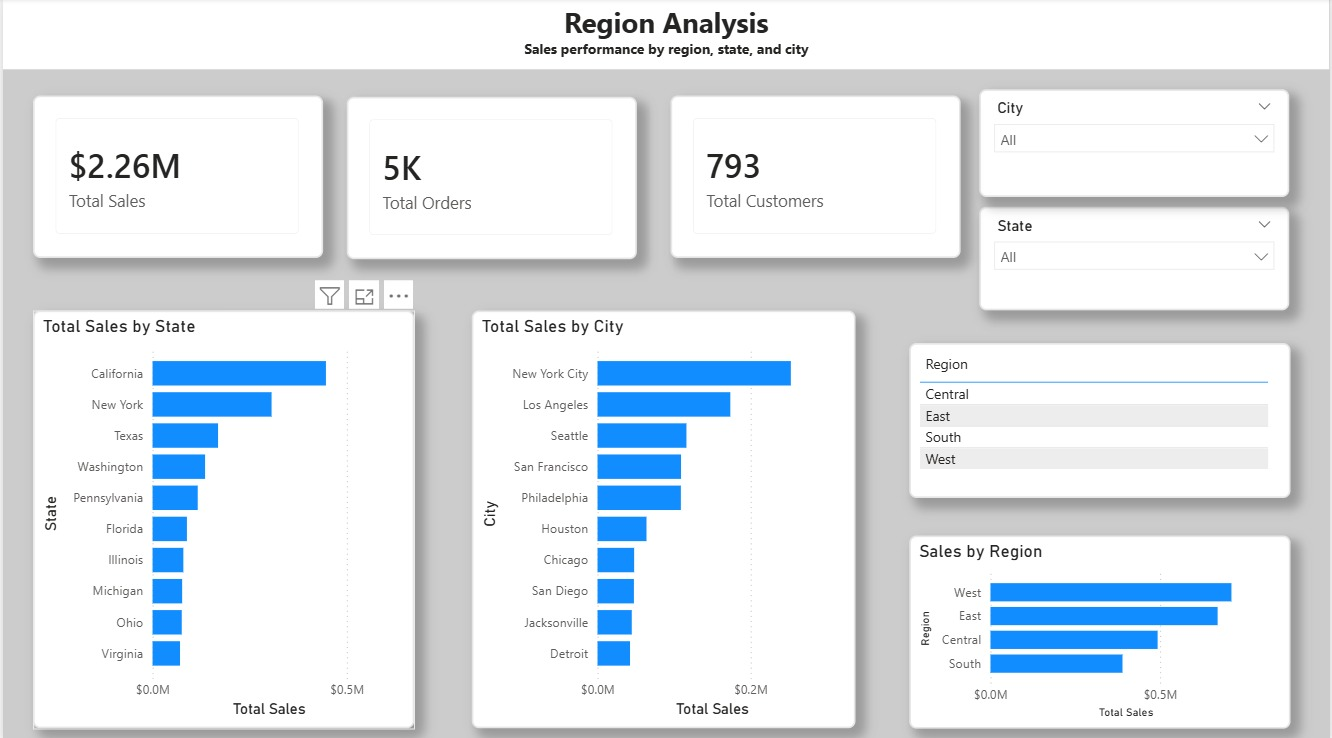

The page's visual inventory and layout, read from the dashboard file:
{"tool":"powerbi","page":{"name":"Region Analysis","canvas":[1280,720],"ordinal":2},"visuals":[{"type":"textbox","box":[0,0,1280.3,68.6],"z":0},{"type":"cardVisual","fields":{"Data":["Orders.Total Sales"]},"box":[28.8,94.7,279.9,156.4],"z":1000,"group":"g1"},{"type":"clusteredBarChart","title":"Sales by Region","fields":{"Category":["Orders.Region"],"Y":["Orders.Total Sales"]},"box":[874.1,518.7,367.8,186.6],"z":1000},{"type":"cardVisual","fields":{"Data":["Orders.Total Orders"]},"box":[332.1,96.1,279.9,156.4],"z":2000,"group":"g1"},{"type":"clusteredBarChart","fields":{"Category":["Orders.City"],"Y":["Orders.Total Sales"]},"box":[452.8,301.9,370.5,403.4],"z":2000},{"type":"cardVisual","fields":{"Data":["Orders.Total Customers"]},"box":[643.6,94.7,279.9,156.4],"z":3000,"group":"g1"},{"type":"tableEx","fields":{"Values":["Orders.Region"]},"box":[874.1,333.4,367.8,149.6],"z":3000},{"type":"slicer","fields":{"Values":["Orders.State"]},"box":[942.7,201.7,299.1,100.2],"z":4000},{"type":"slicer","fields":{"Values":["Orders.City"]},"box":[942.7,87.8,299.1,104.3],"z":5000},{"type":"clusteredBarChart","fields":{"Y":["Orders.Total Sales"],"Category":["Orders.State"]},"box":[28.8,301.9,367.8,403.4],"z":6000},{"type":"group","id":"g1","title":"Group 1","box":[28.8,94.7,894.7,157.8],"z":7000}]}

Visuals, with their boxes in screenshot pixels (x1, y1, x2, y2), scaled from the page's 1280x720 canvas onto the 1332x738 screenshot:
textbox: (x1=0, y1=0, x2=1331, y2=70)
cardVisual - Orders.Total Sales: (x1=30, y1=97, x2=321, y2=257)
"Sales by Region" clusteredBarChart: (x1=910, y1=532, x2=1292, y2=723)
cardVisual - Orders.Total Orders: (x1=346, y1=99, x2=637, y2=259)
clusteredBarChart - Orders.City x Orders.Total Sales: (x1=471, y1=309, x2=857, y2=723)
cardVisual - Orders.Total Customers: (x1=670, y1=97, x2=961, y2=257)
tableEx - Orders.Region: (x1=910, y1=342, x2=1292, y2=495)
slicer - Orders.State: (x1=981, y1=207, x2=1292, y2=309)
slicer - Orders.City: (x1=981, y1=90, x2=1292, y2=197)
clusteredBarChart - Orders.Total Sales x Orders.State: (x1=30, y1=309, x2=413, y2=723)
"Group 1" group: (x1=30, y1=97, x2=961, y2=259)
